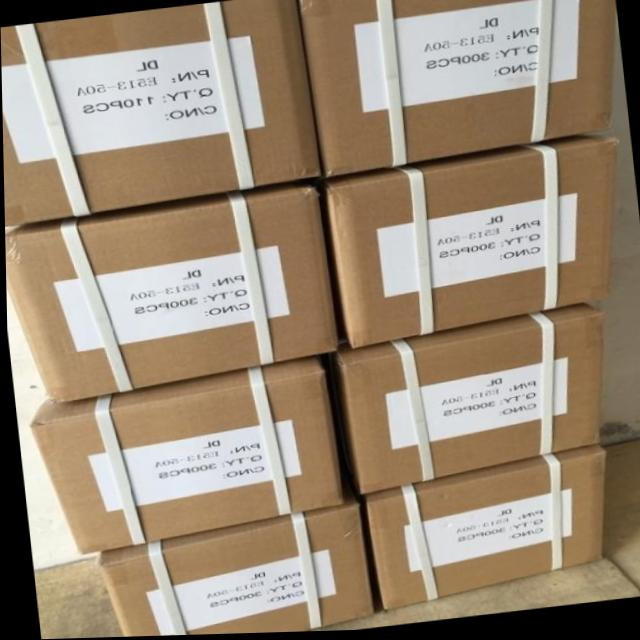box: (4, 181, 335, 404), (0, 0, 319, 227), (320, 137, 619, 349), (27, 357, 339, 555), (296, 0, 616, 178), (323, 306, 604, 497), (95, 480, 373, 637), (362, 449, 603, 612)
